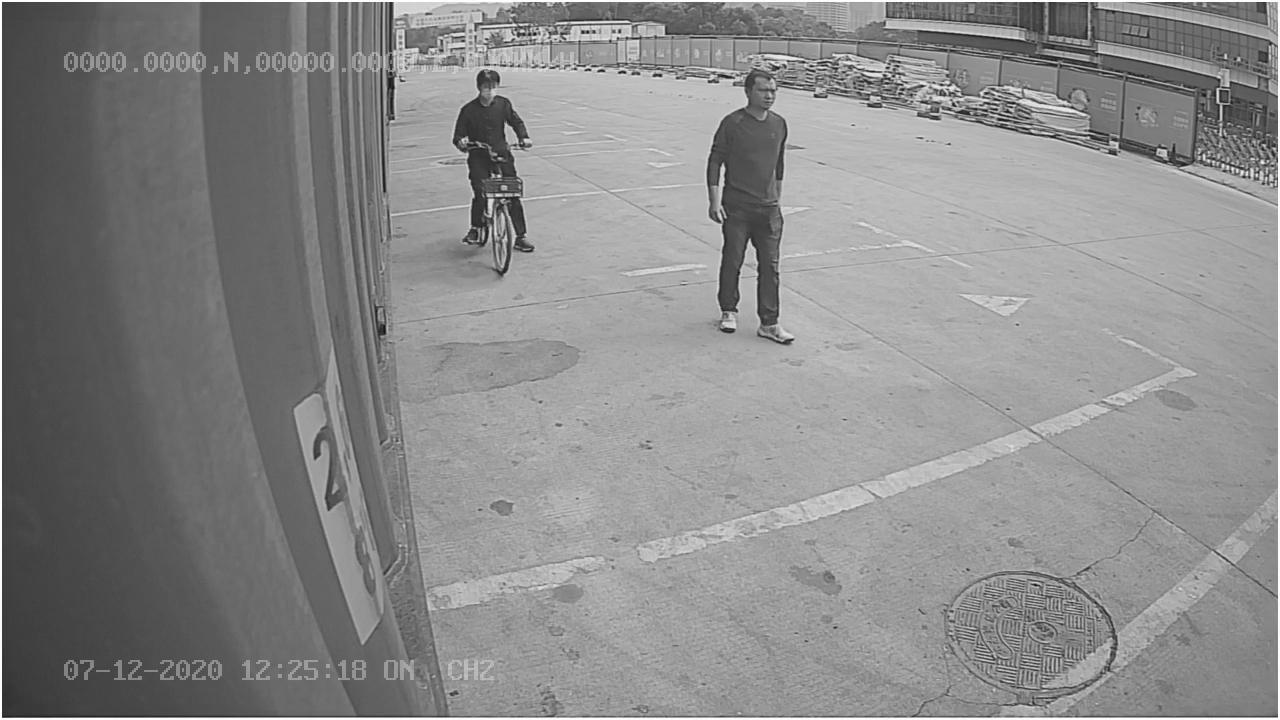person: (699, 64, 805, 347)
